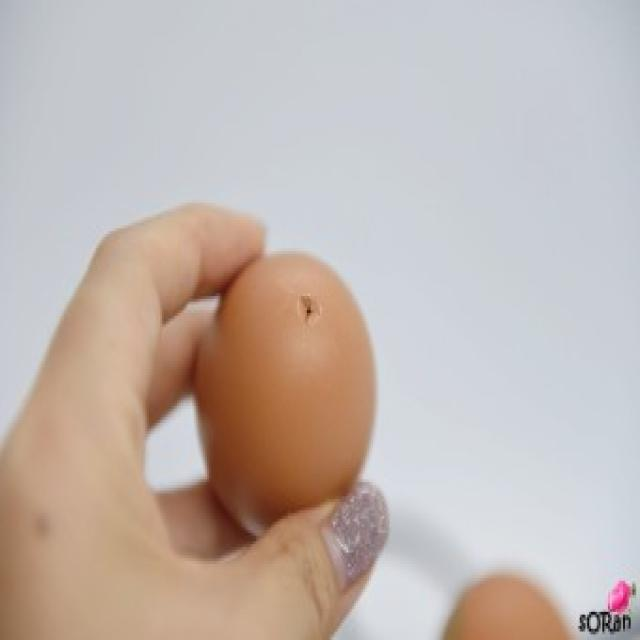eggs: (195, 244, 384, 554)
